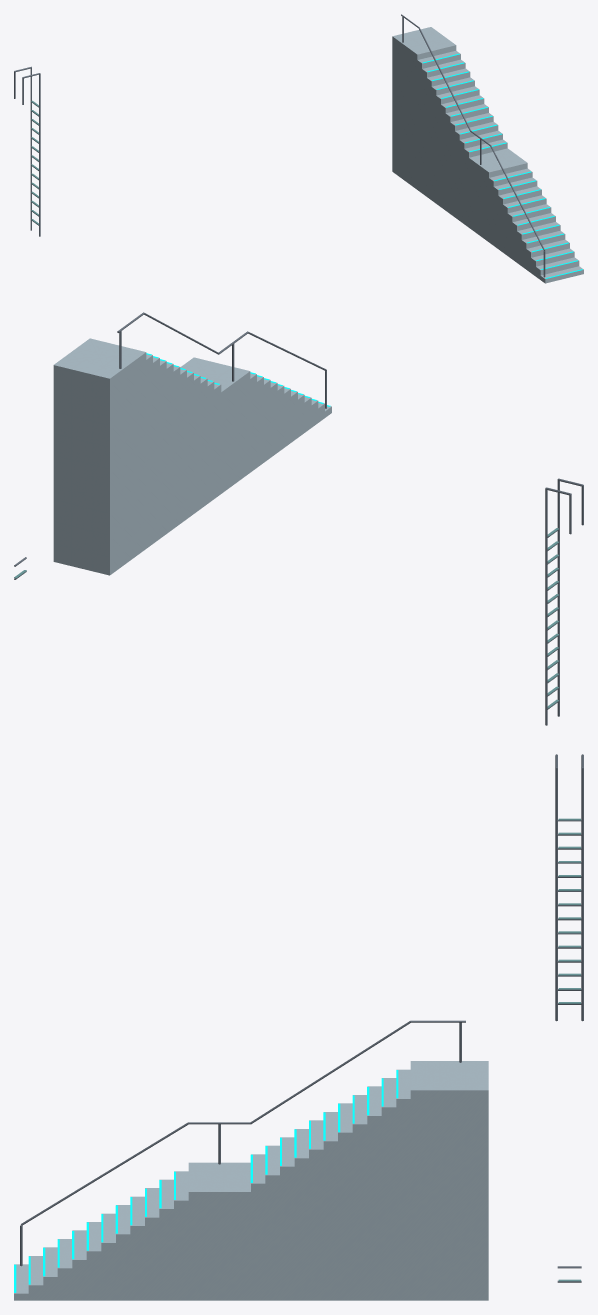
Rendered from tt_pool_access_dive_a.glb.
3 renders of one model, top to bottom at view 1: azimuth 30°, elevation 25°; view 2: azimuth 150°, elevation 25°; view 3: azimuth 270°, elevation 25°, orthographic. The views are drawn at different scales.
Visible parts, largest first — view 1: Dive_Stair_Tile, Step_Nosing_Cyan, Ladder_Stringers, Pool_Handrail; view 2: Dive_Stair_Tile, Ladder_Stringers, Pool_Handrail, Ladder_Tread_Rubber; view 3: Dive_Stair_Tile, Step_Nosing_Cyan, Ladder_Stringers, Pool_Handrail, Ladder_Tread_Rubber, Ladder_Rungs.
Boxes of the visible parts, bbox=[...] form: Dive_Stair_Tile: bbox=[392, 27, 583, 283]; Step_Nosing_Cyan: bbox=[422, 53, 582, 278]; Ladder_Stringers: bbox=[14, 66, 40, 236]; Pool_Handrail: bbox=[401, 14, 544, 250]; Dive_Stair_Tile: bbox=[53, 338, 331, 575]; Ladder_Stringers: bbox=[545, 478, 583, 725]; Pool_Handrail: bbox=[117, 312, 326, 370]; Ladder_Tread_Rubber: bbox=[14, 528, 559, 708]; Dive_Stair_Tile: bbox=[14, 1061, 488, 1300]; Step_Nosing_Cyan: bbox=[14, 1070, 398, 1292]; Ladder_Stringers: bbox=[555, 754, 583, 1021]; Pool_Handrail: bbox=[21, 1020, 465, 1225]; Ladder_Tread_Rubber: bbox=[558, 818, 580, 1281]; Ladder_Rungs: bbox=[557, 819, 581, 1282].
Size of what is drawn, in the model's own units: 13.36 by 5.39 by 10.98.
Materials: 4 (2 with a texture image).
